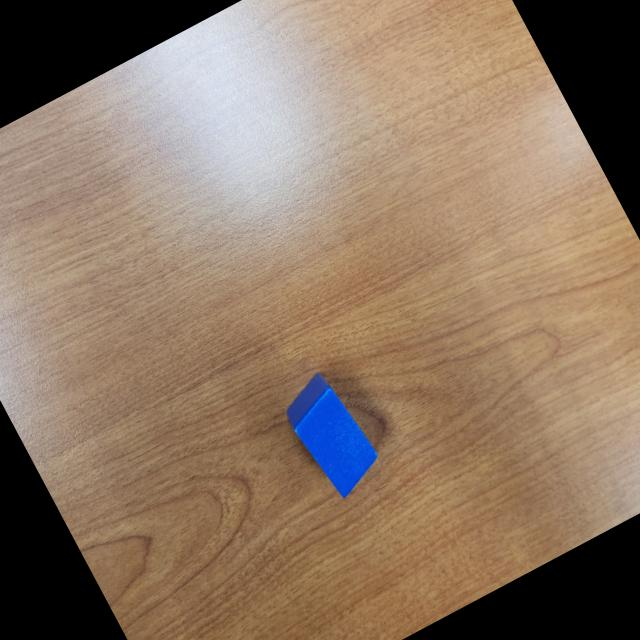blue: (275, 364, 389, 504)
